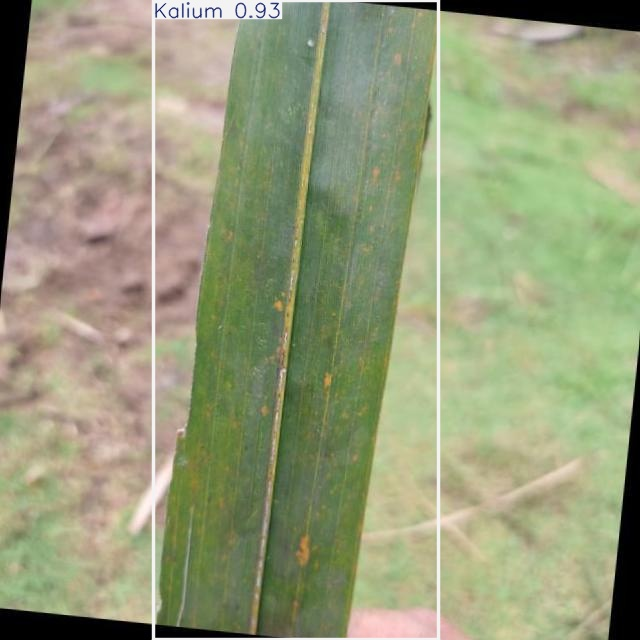Kalium: (153, 0, 438, 639)
